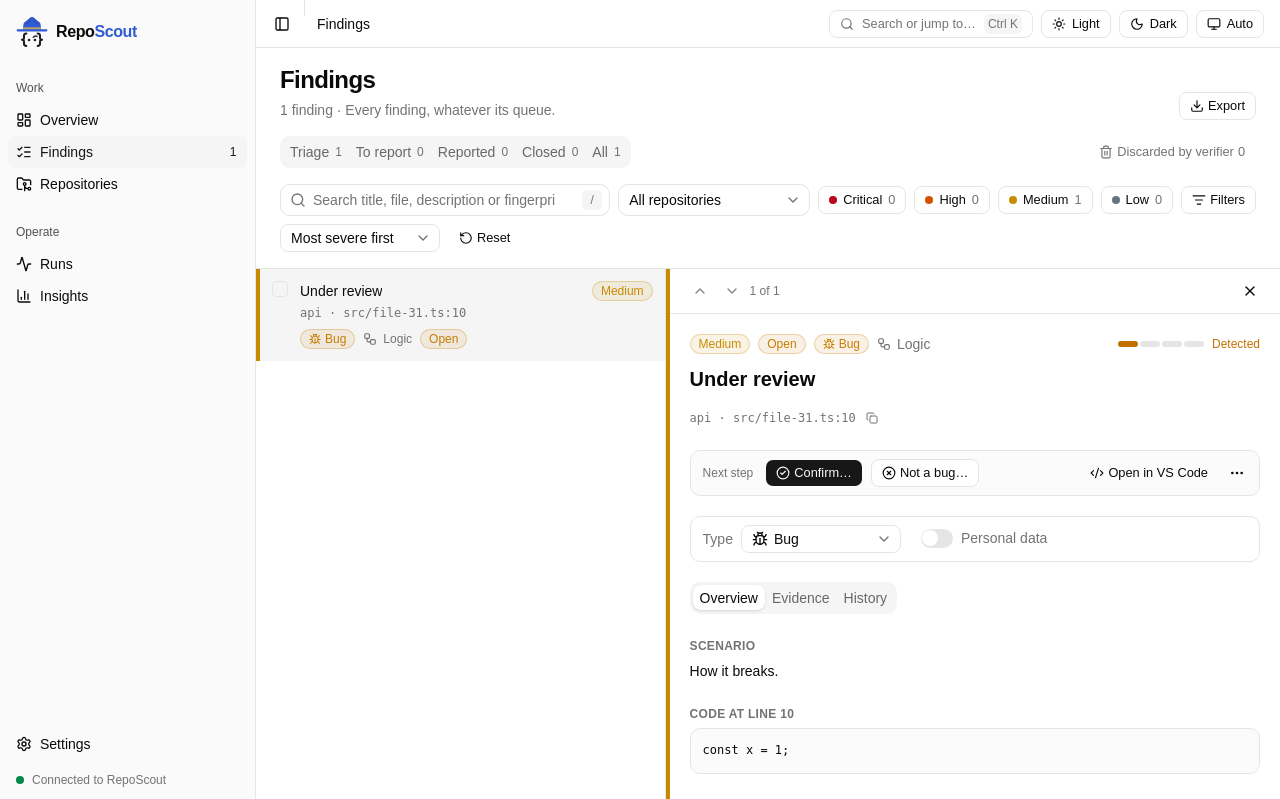
Scenario: the Not a bug dialog › offers Refute and Suppress on an undecided open finding, with Refute selected
Click the button "Not a bug…".
click(925, 472)  # box [871, 458, 979, 486]
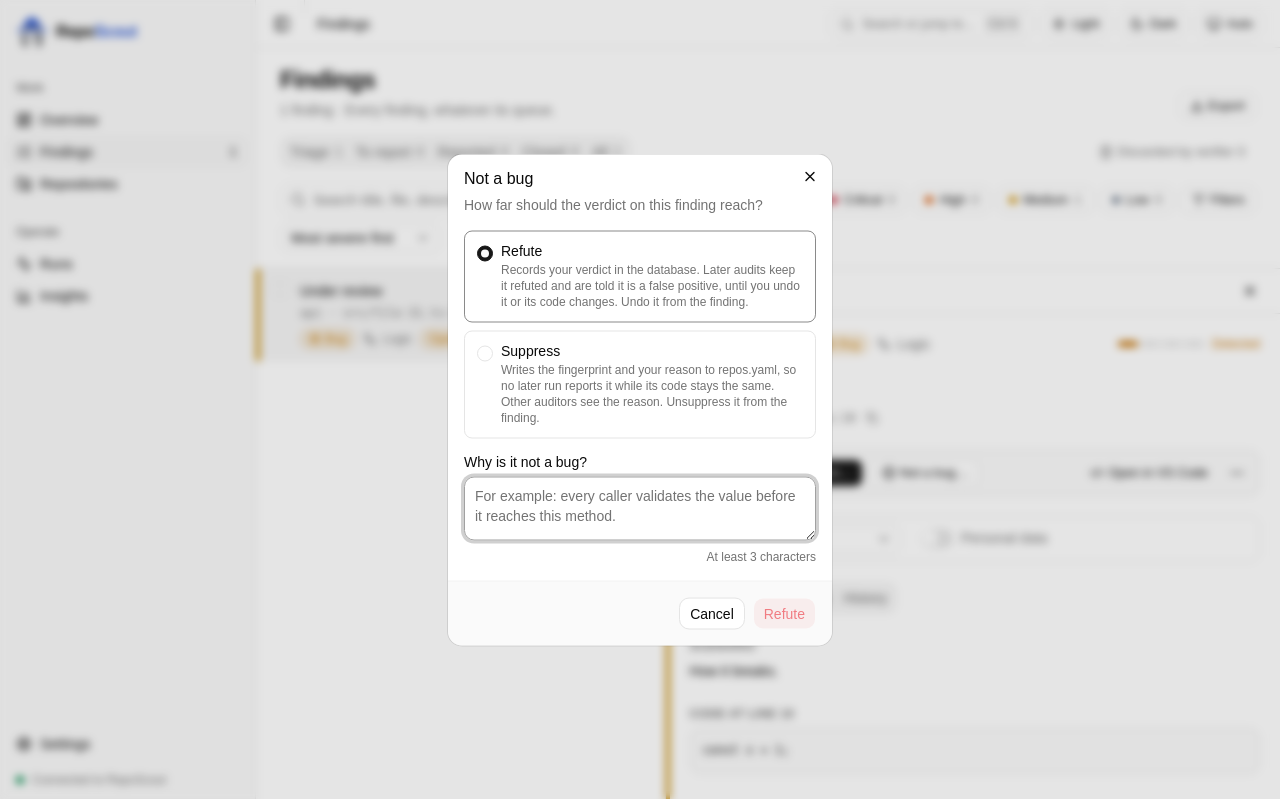
Check: the 1st radio button named "Refute" is checked, box [477, 246, 493, 262]
